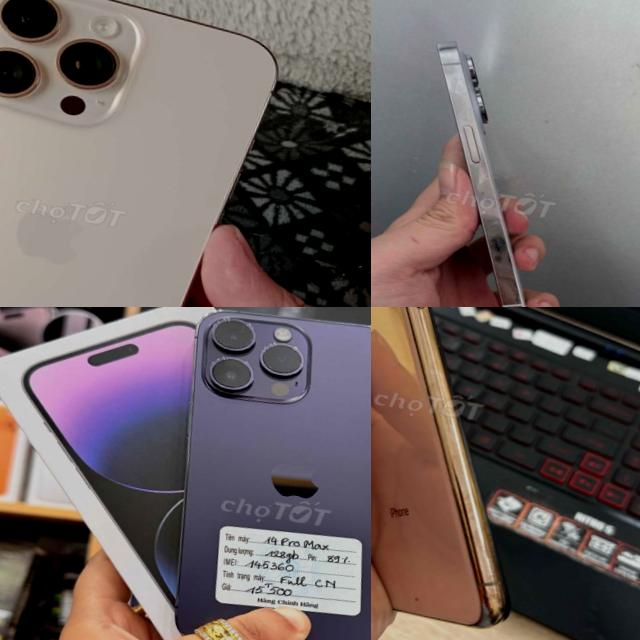gen_14: (139, 307, 371, 640), (381, 19, 612, 307)
gen_16: (0, 0, 275, 307)
gen_x_xs: (371, 307, 508, 624)
